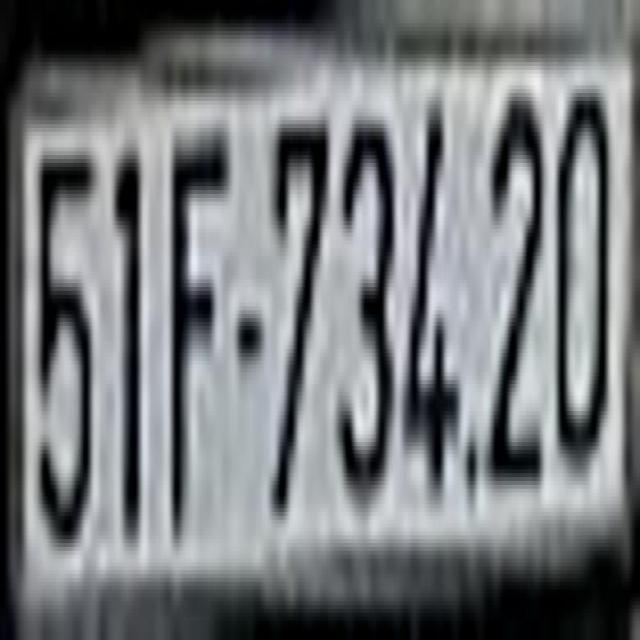0: (553, 78, 607, 458)
1: (115, 155, 147, 543)
2: (486, 101, 542, 485)
3: (344, 112, 392, 512)
4: (402, 82, 457, 504)
5: (38, 143, 92, 554)
7: (270, 108, 330, 516)
F: (170, 124, 230, 539)
